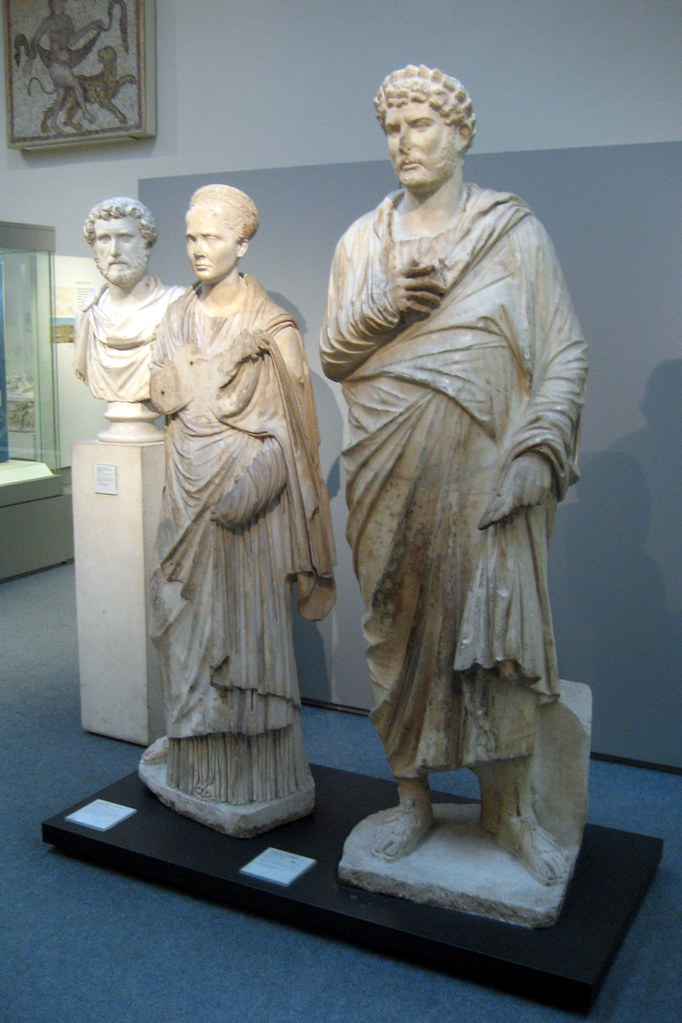person-like: (313, 52, 601, 895), (138, 178, 346, 839), (70, 191, 196, 418)
